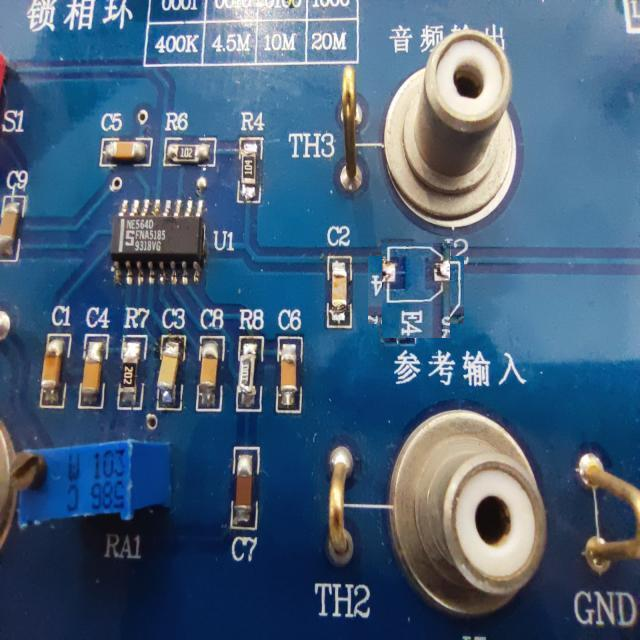miss_welding: (376, 249, 458, 331)
